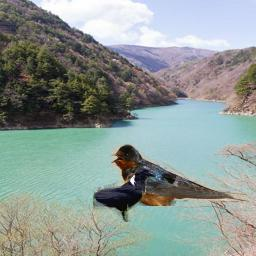Crow: (93, 165, 157, 222)
Swallow: (111, 143, 250, 206)
